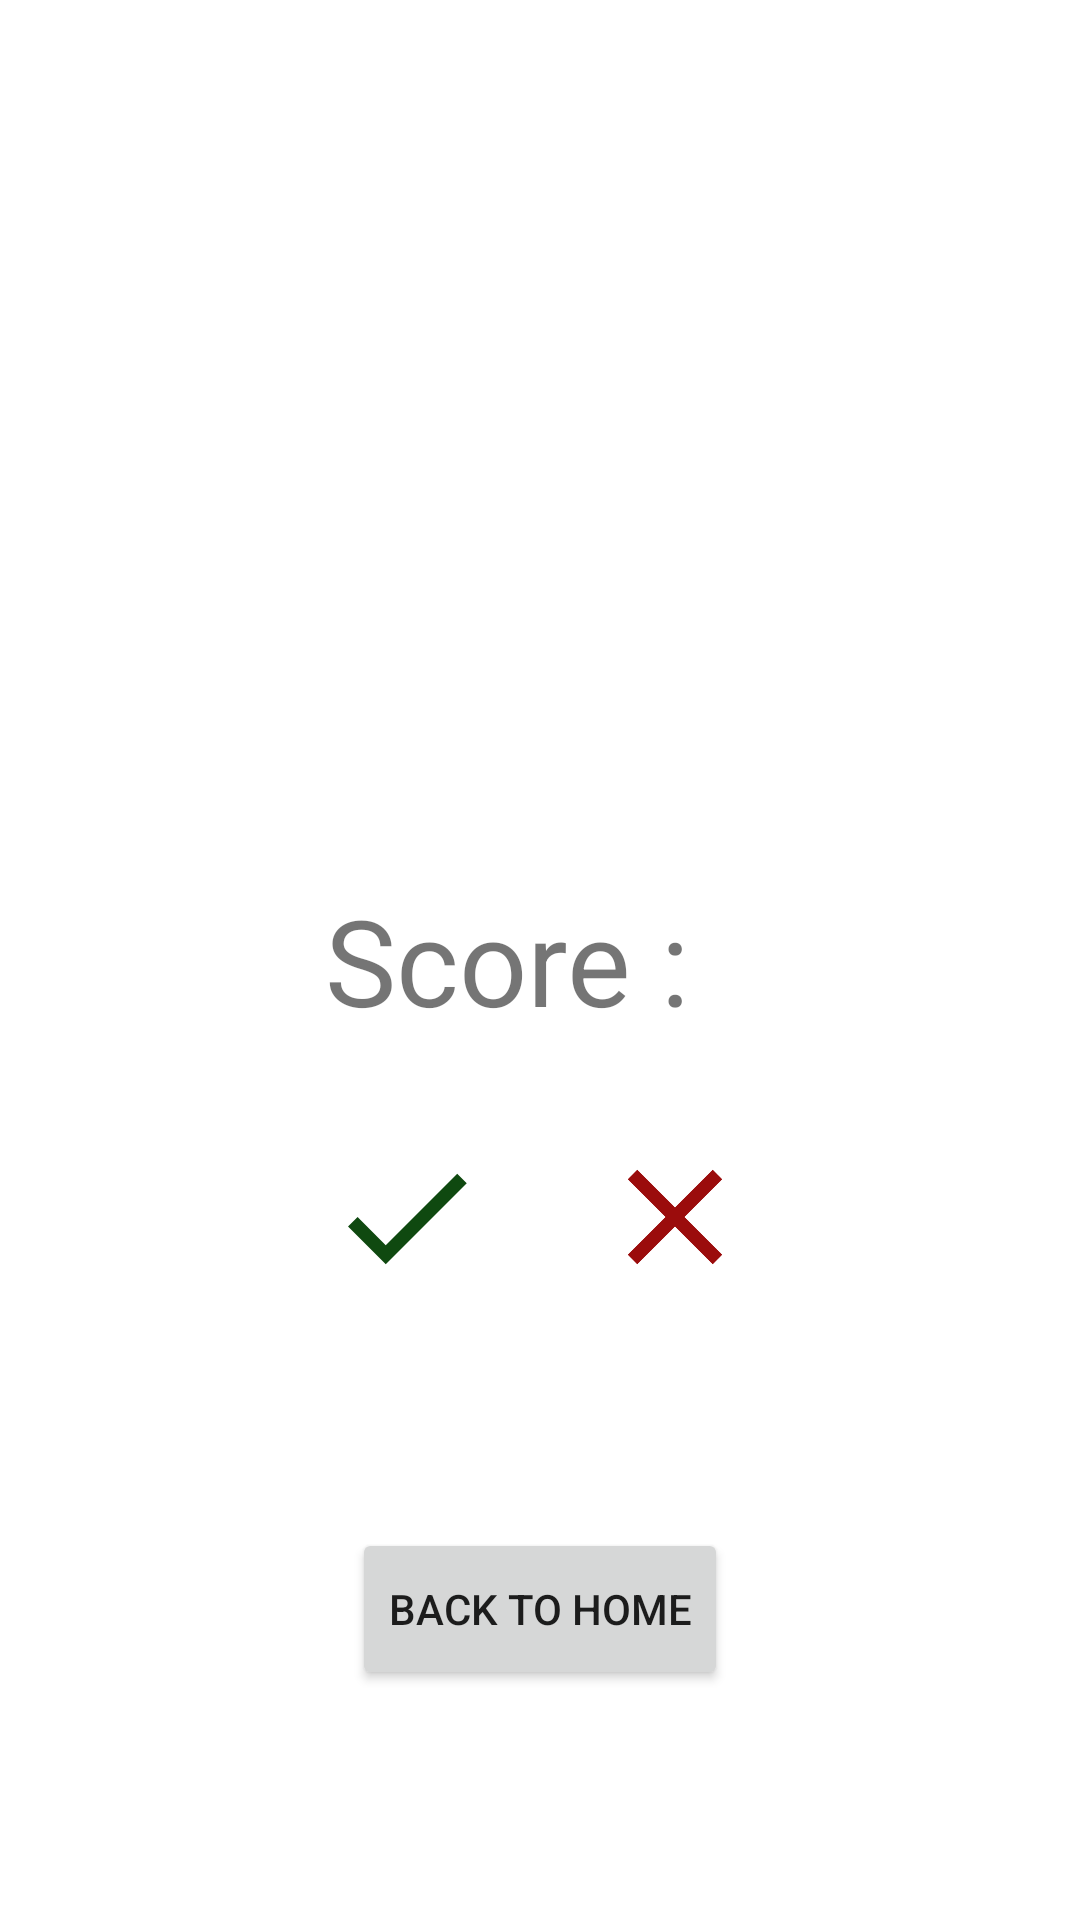

Icons on this 1080×1920 Android screen, each with the point to tap as point (x, y):
correct: point (407, 1219)
wong: point (675, 1217)
